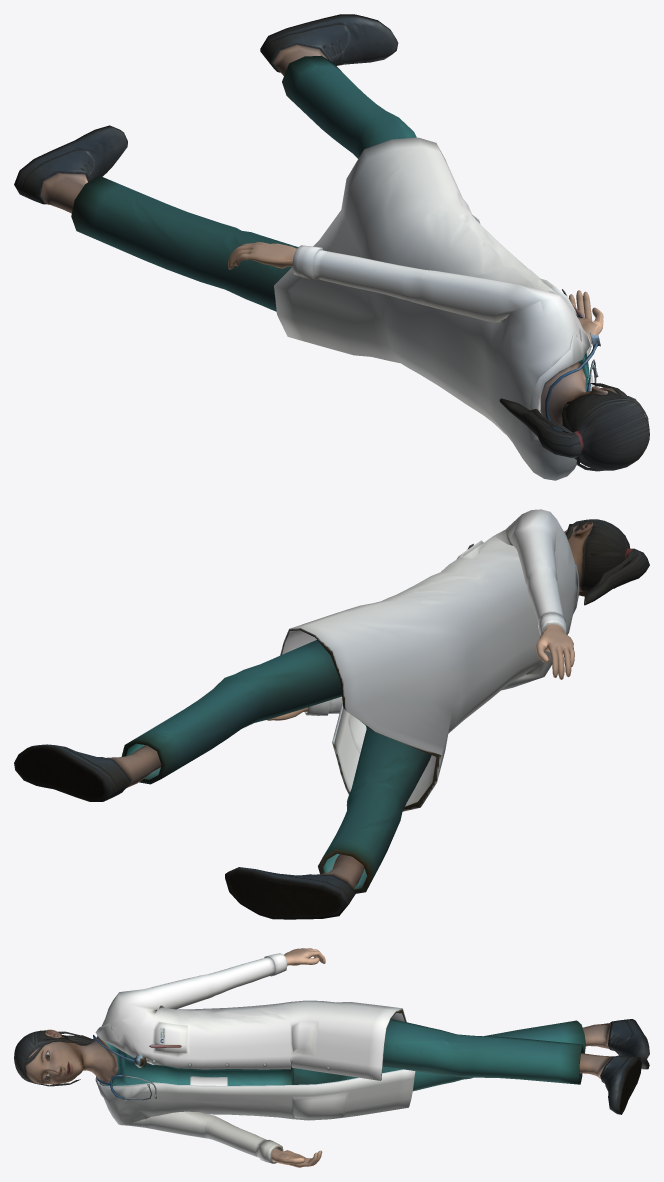
File: walk.obj
3 views of the same model, one above another, from view 1: azimuth 30°, elevation 25°; view 2: azimuth 150°, elevation 25°; view 3: azimuth 270°, elevation 25° (orthographic). The views are drawn at different scales.
Size of the model in its own units: 0.8266 by 0.373 by 1.71.
Materials: 1 (1 with a texture image).
